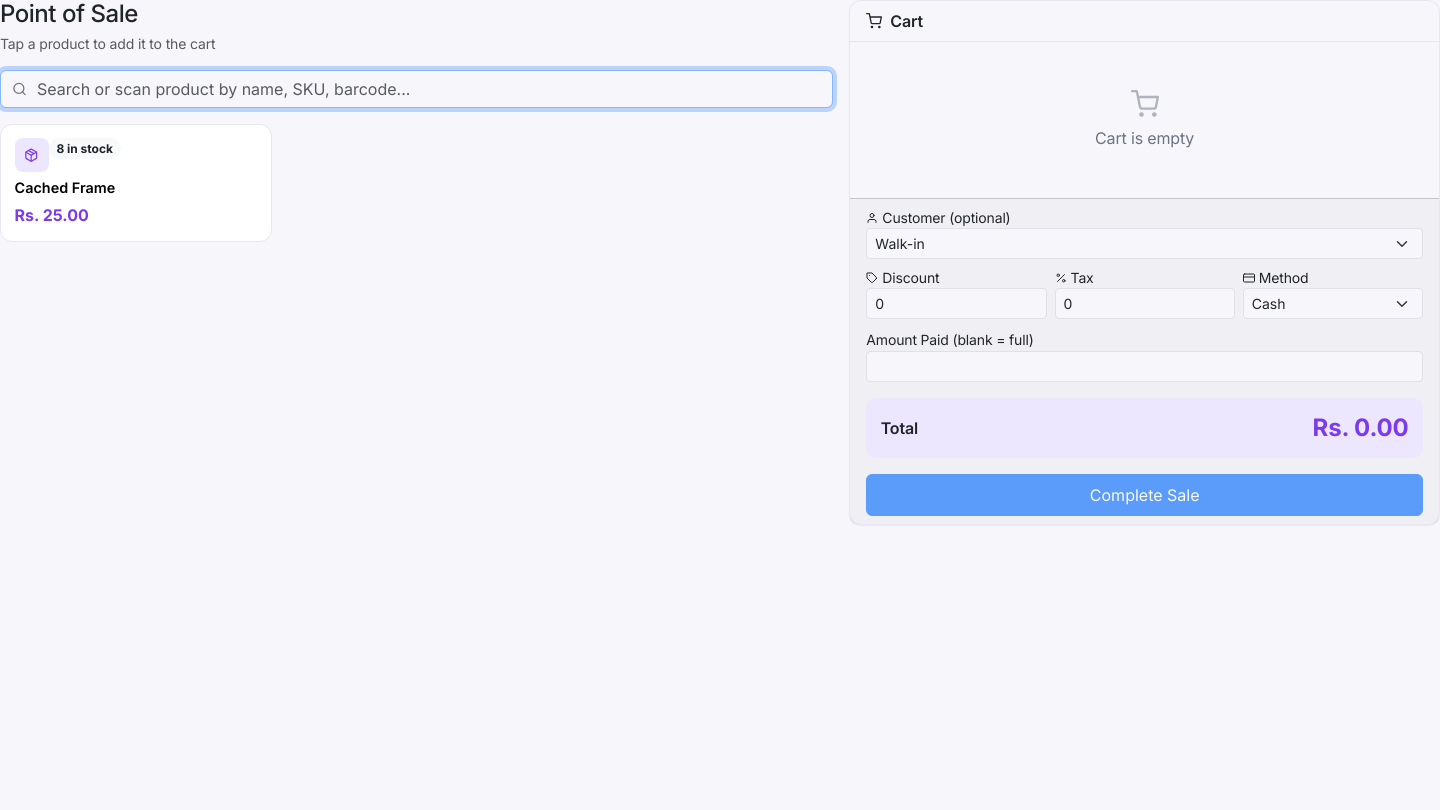
Test case: Pos page (Phase 1.8) › shows a queued (offline) receipt when the sale cannot sync immediately
The image size is (1440, 810).
Click the text "Cached Frame" at (65, 188), box [15,179,115,197]
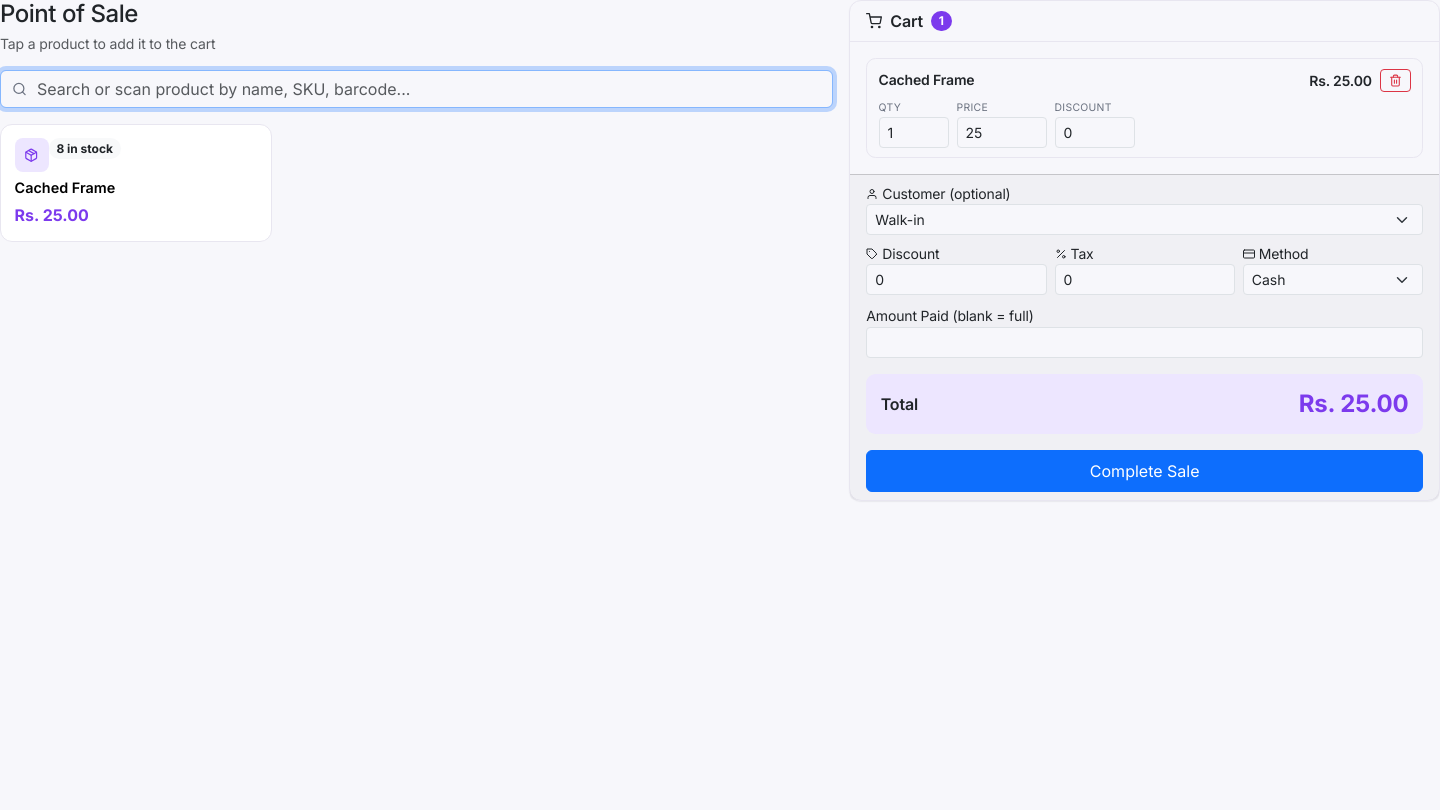
Click the button "Complete Sale" at (1145, 471), box [866,450,1423,492]
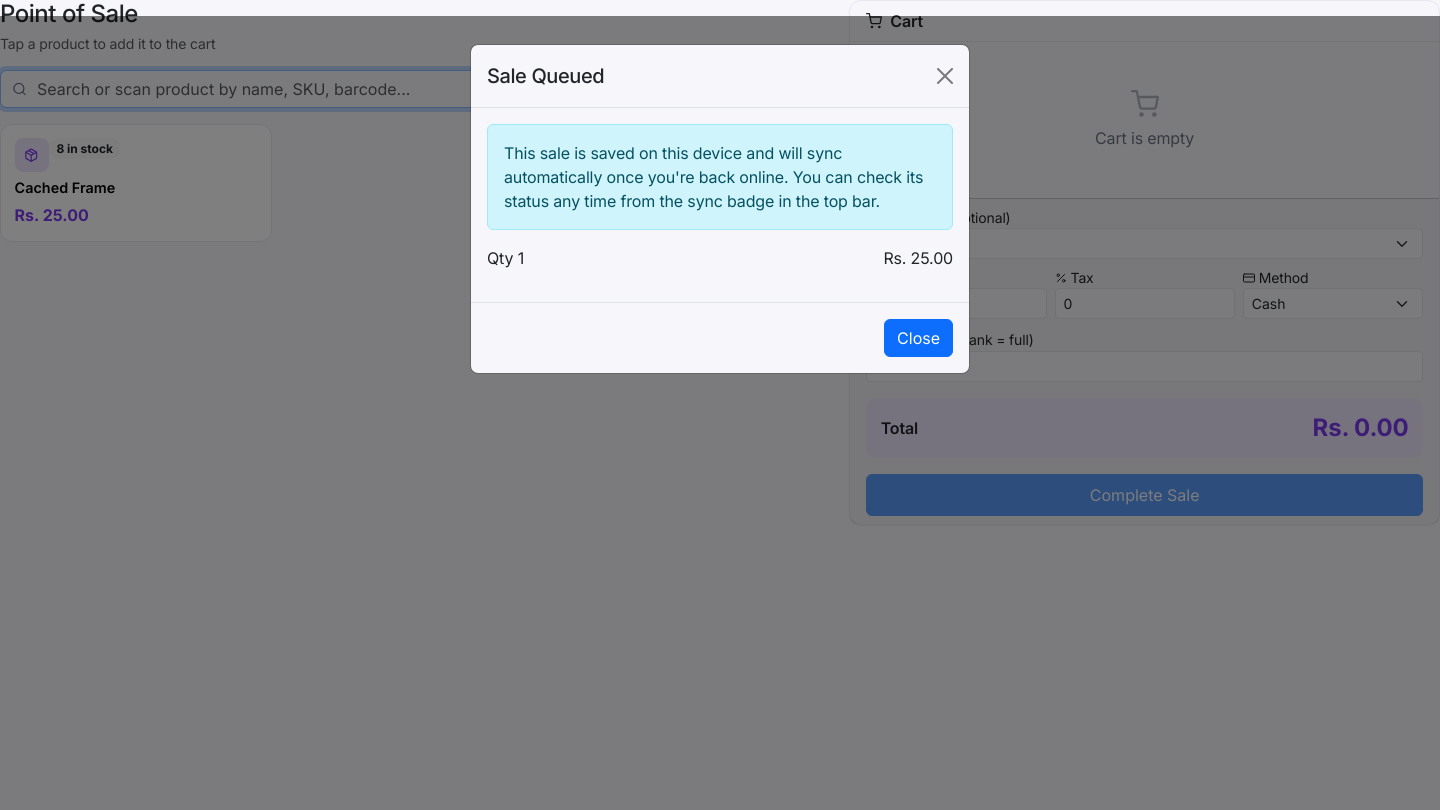
Now the heading "Sale Queued" is shown, box [487,61,604,91]
